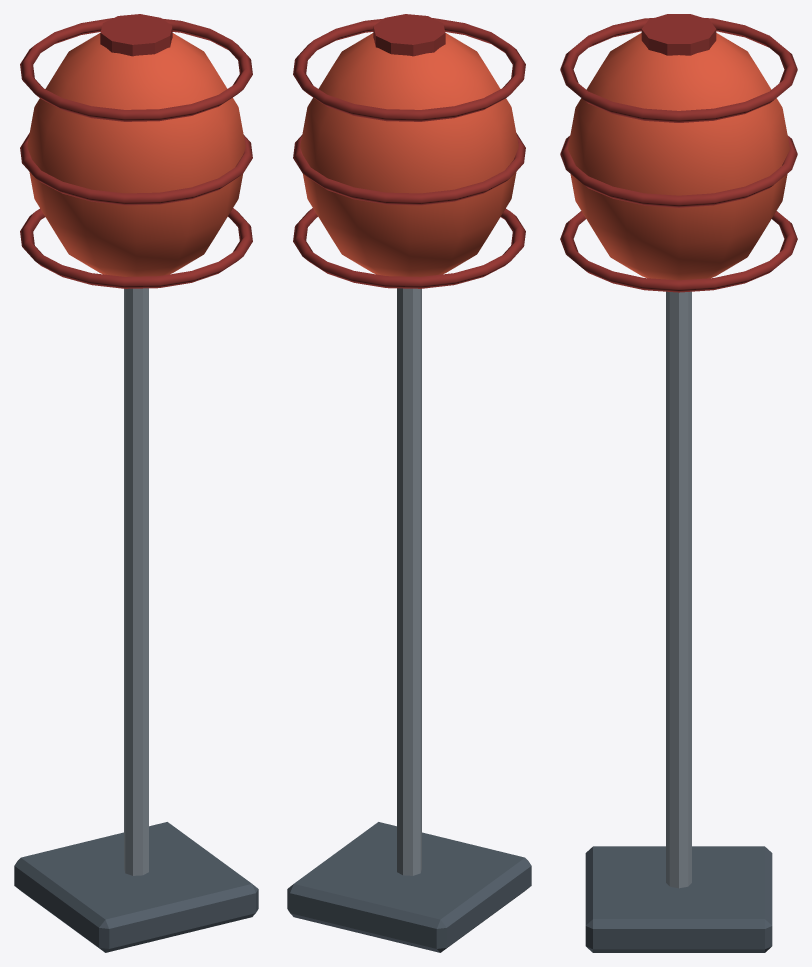
Rendered from torch.fbx.
The picture shows the model from 3 angles, left to right: view 1: azimuth 30°, elevation 25°; view 2: azimuth 150°, elevation 25°; view 3: azimuth 270°, elevation 25°; orthographic projection.
Visible parts, largest first — view 1: torch; view 2: torch; view 3: torch.
Boxes of the visible parts, box(x1,y1,x2,y2) form: torch: box(14, 14, 258, 952); torch: box(287, 14, 531, 952); torch: box(560, 14, 797, 952).
Bounding box in the file's own units: 0.636 × 2.62 × 0.636.
